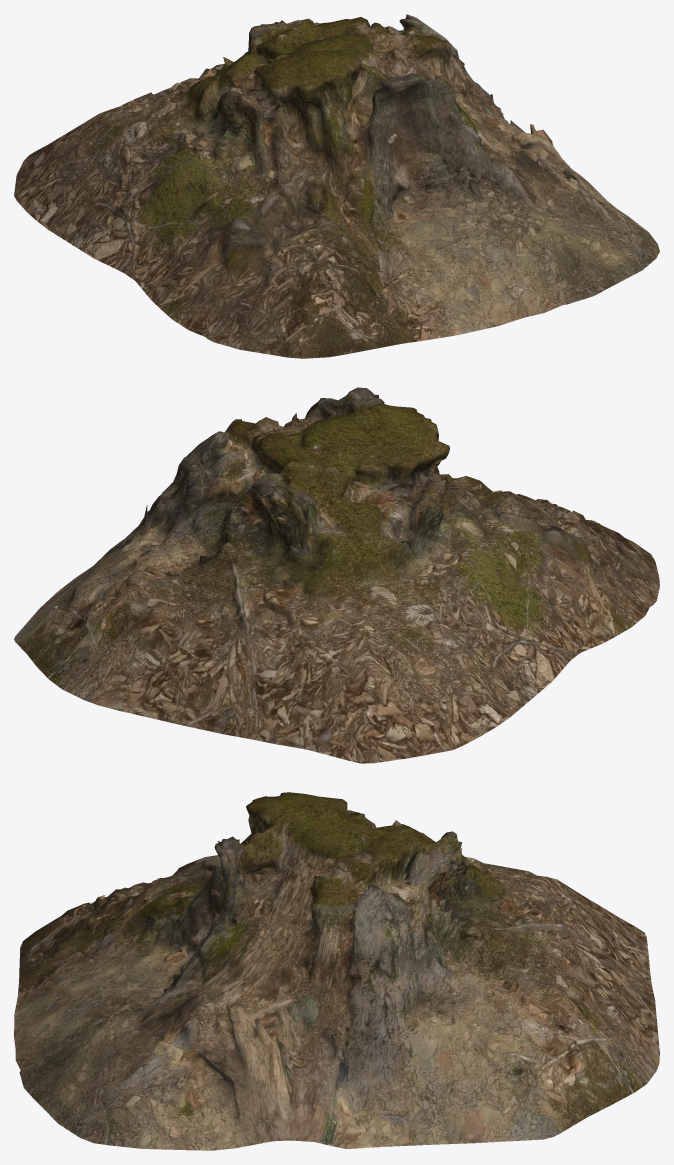
File: tree_stump_01.glb
3 views of the same model, one above another, from view 1: azimuth 30°, elevation 25°; view 2: azimuth 150°, elevation 25°; view 3: azimuth 270°, elevation 25° (orthographic). The views are drawn at different scales.
Visible parts, largest first — view 1: tree_stump_01; view 2: tree_stump_01; view 3: tree_stump_01.
Boxes of the visible parts, x1,y1,x2,y2 form: tree_stump_01: (14,14,659,358); tree_stump_01: (14,387,659,763); tree_stump_01: (14,792,659,1150).
Size of the model in its own units: 1.43 by 0.5725 by 1.59.
Materials: 1 (1 with a texture image).
